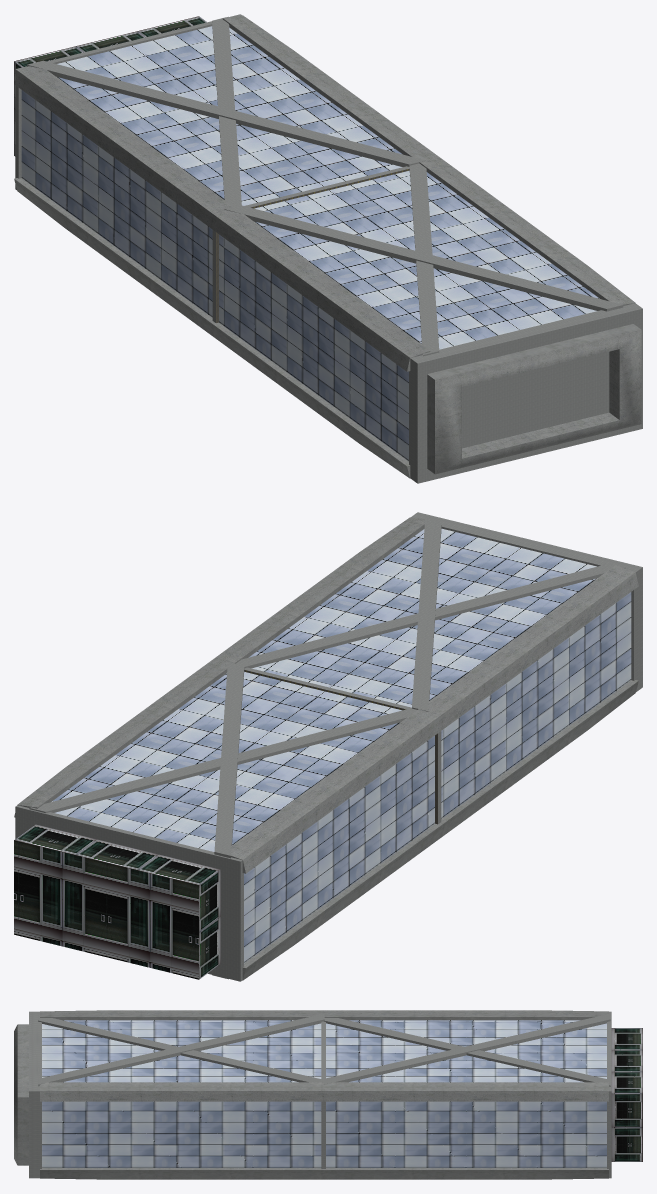
Rendered from skyscraper_windowG_01.obj.
The picture shows the model from 3 angles, top to bottom: view 1: azimuth 30°, elevation 25°; view 2: azimuth 150°, elevation 25°; view 3: azimuth 270°, elevation 25°; orthographic projection. The views are drawn at different scales.
Parts seen in each view (by area): view 1: Zone_4x4_SeaWall_C_01; view 2: Zone_4x4_SeaWall_C_01; view 3: Zone_4x4_SeaWall_C_01.
Boxes of the visible parts, bbox=[...] form: Zone_4x4_SeaWall_C_01: bbox=[14, 14, 642, 483]; Zone_4x4_SeaWall_C_01: bbox=[14, 512, 642, 981]; Zone_4x4_SeaWall_C_01: bbox=[14, 1010, 642, 1179].
Size of the model in its own units: 42.29 by 21.82 by 137.
4 materials, 4 textured.
